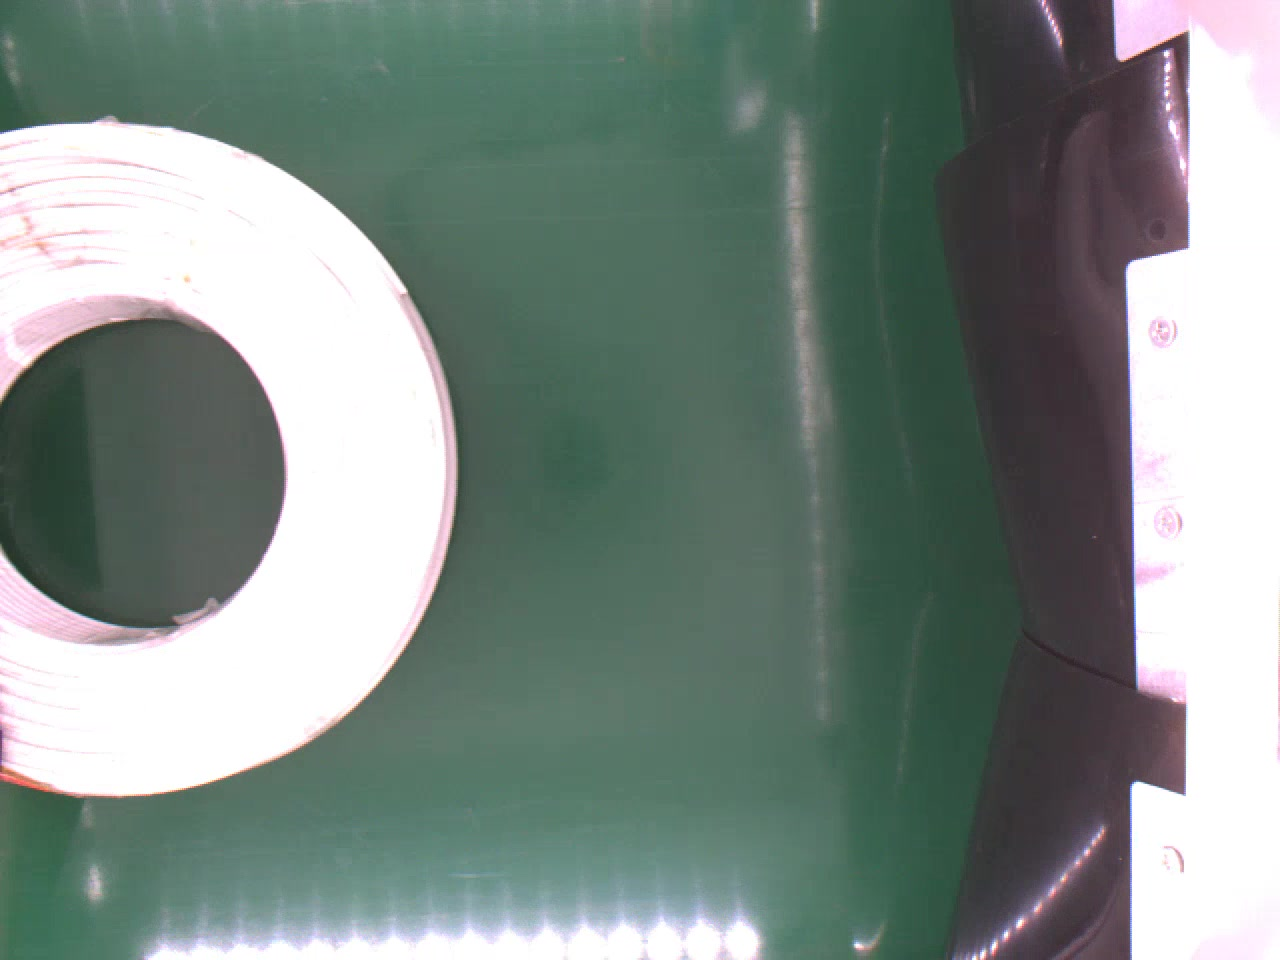white: (0, 115, 459, 800)
